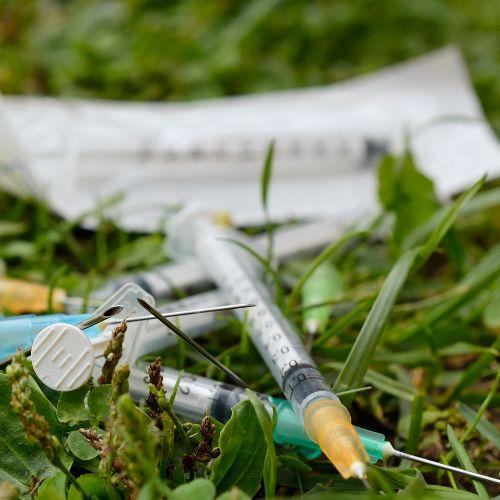Syringe: (167, 212, 367, 478), (354, 426, 499, 483), (92, 258, 211, 299), (0, 313, 91, 361), (301, 262, 342, 337), (0, 276, 82, 313)
